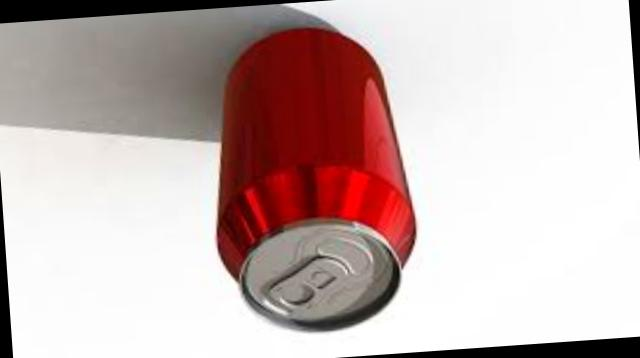metal: (220, 31, 417, 332)
